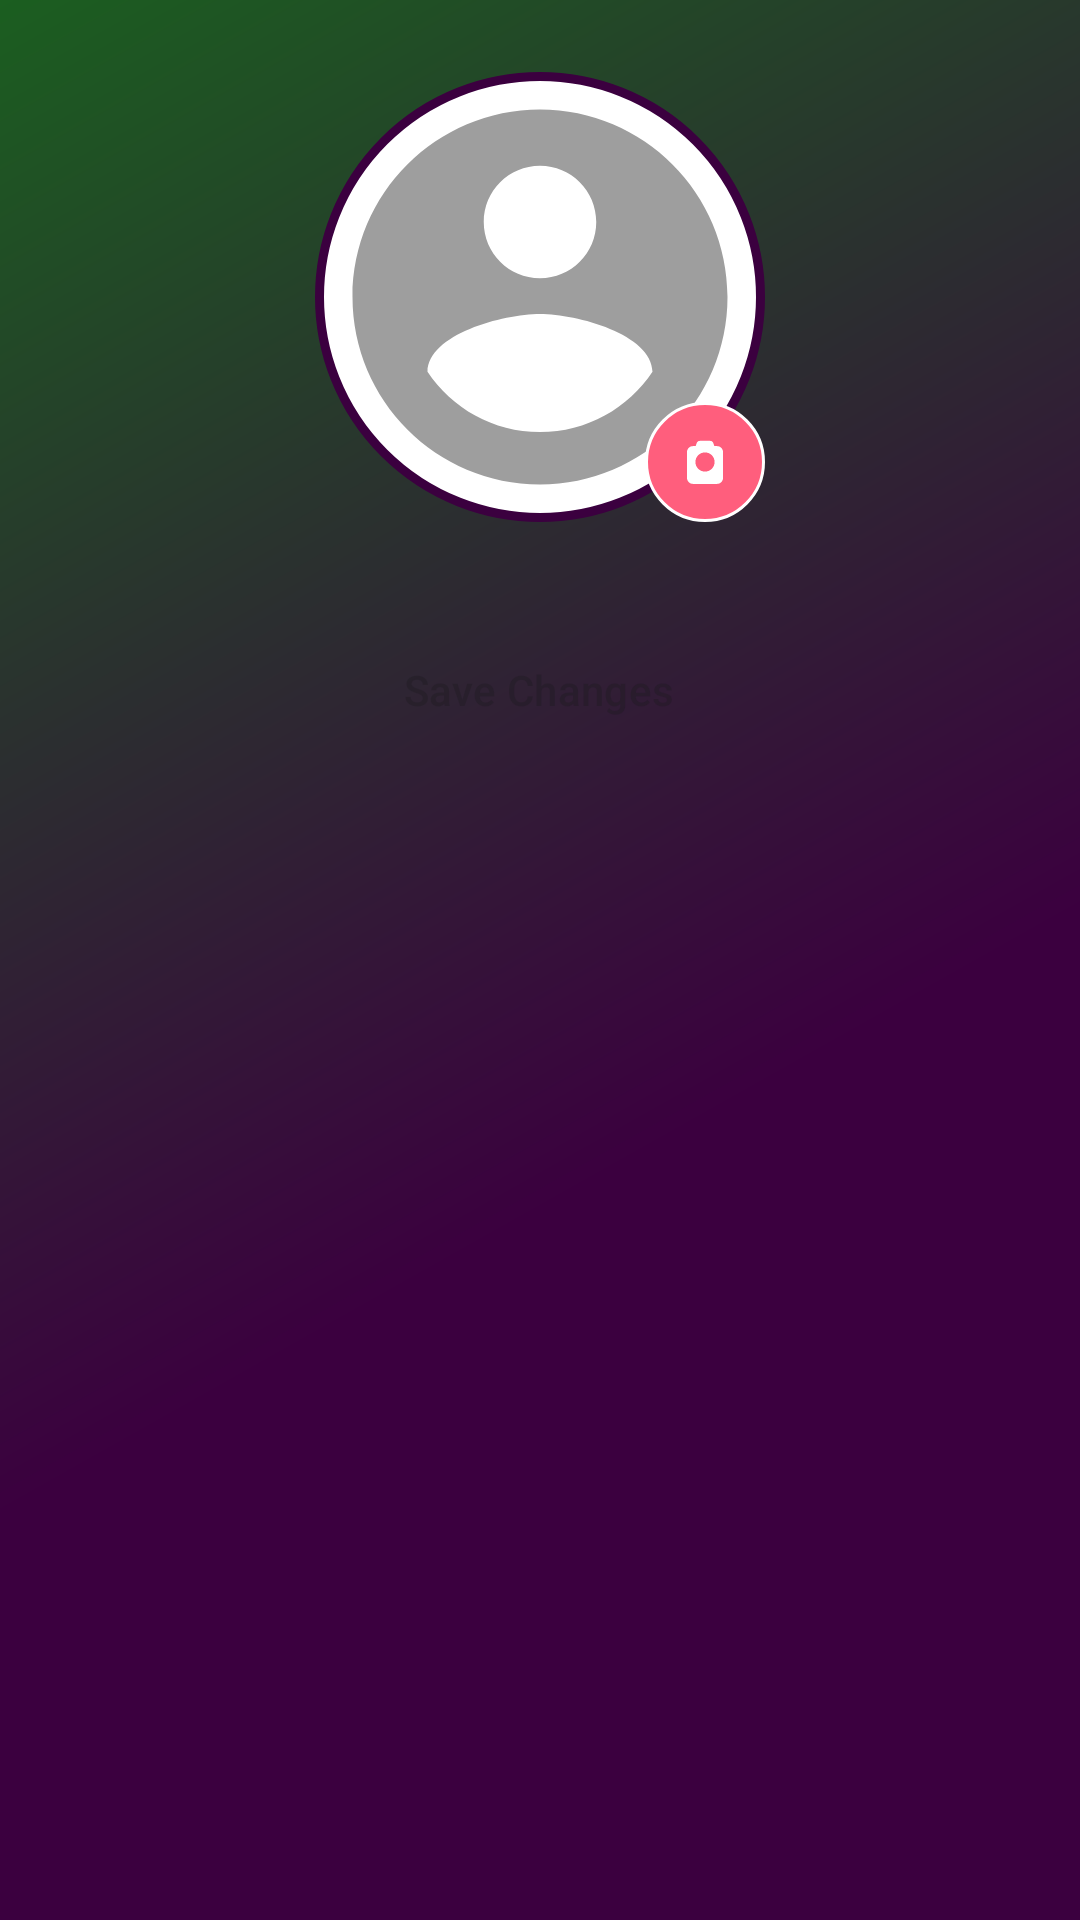

Screen size 1080px×1920px. Icon name, then its center in pixels as (x,y):
Change photo: (705,462)
